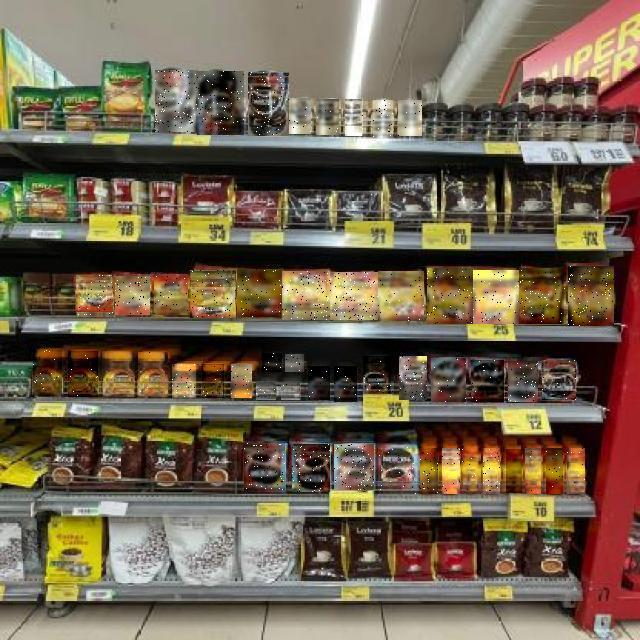Coffee: (198, 71, 246, 135), (569, 266, 615, 326), (156, 70, 200, 132), (248, 72, 289, 136), (520, 268, 566, 324), (427, 268, 473, 324), (473, 270, 519, 324), (282, 271, 330, 320), (330, 272, 378, 320), (378, 271, 424, 321), (190, 270, 236, 318), (237, 269, 283, 317), (378, 444, 417, 496), (244, 444, 285, 492), (334, 445, 374, 491), (293, 445, 331, 493), (431, 358, 466, 402), (102, 351, 135, 397), (76, 276, 113, 316), (155, 274, 189, 315), (471, 360, 504, 402), (68, 351, 98, 397), (115, 276, 150, 315), (542, 360, 576, 400), (33, 350, 62, 396), (138, 352, 168, 396), (399, 357, 427, 401), (508, 361, 538, 402), (364, 357, 394, 395), (462, 446, 480, 494), (398, 101, 422, 137), (442, 448, 460, 494), (420, 448, 438, 494), (567, 449, 585, 495), (316, 99, 339, 135), (334, 366, 357, 402), (172, 364, 196, 398), (289, 98, 311, 134), (483, 448, 500, 494), (546, 448, 563, 494), (373, 100, 393, 138), (202, 365, 224, 399), (308, 366, 330, 400), (346, 99, 366, 136), (525, 448, 541, 494), (231, 364, 252, 398), (506, 449, 522, 493), (263, 353, 283, 372), (282, 383, 304, 400), (286, 354, 306, 372), (256, 382, 276, 400)
